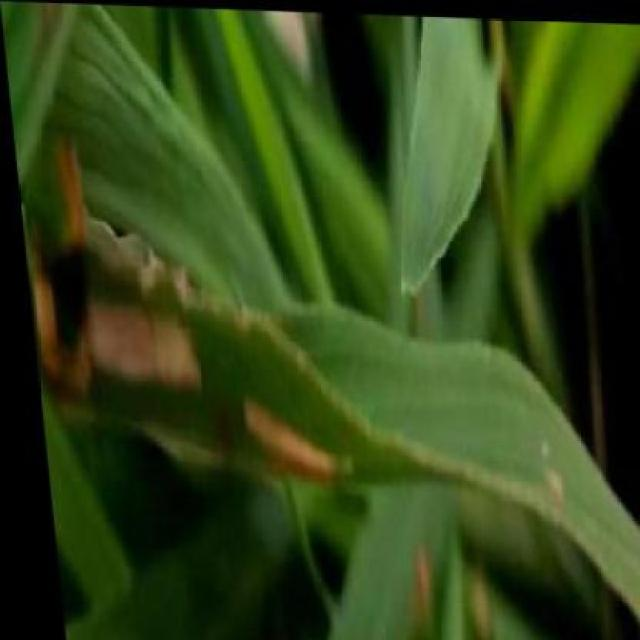Bacterial_Leaf_Blight: (61, 278, 213, 418), (215, 380, 359, 492)
